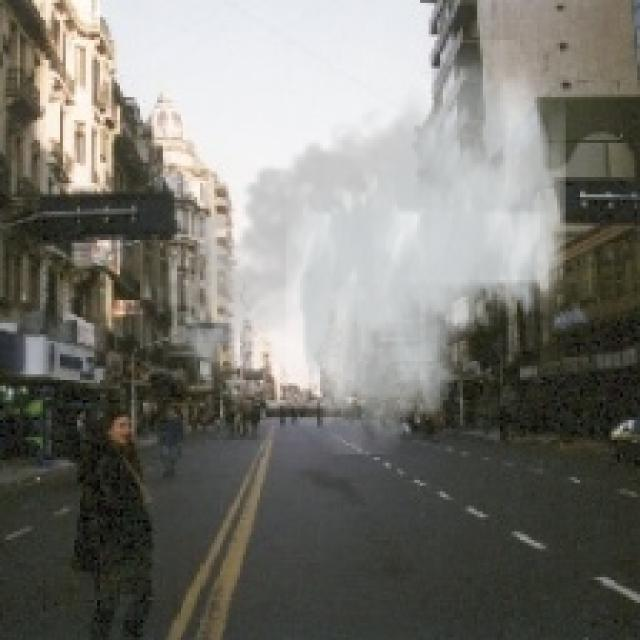smoke: (168, 40, 566, 454)
